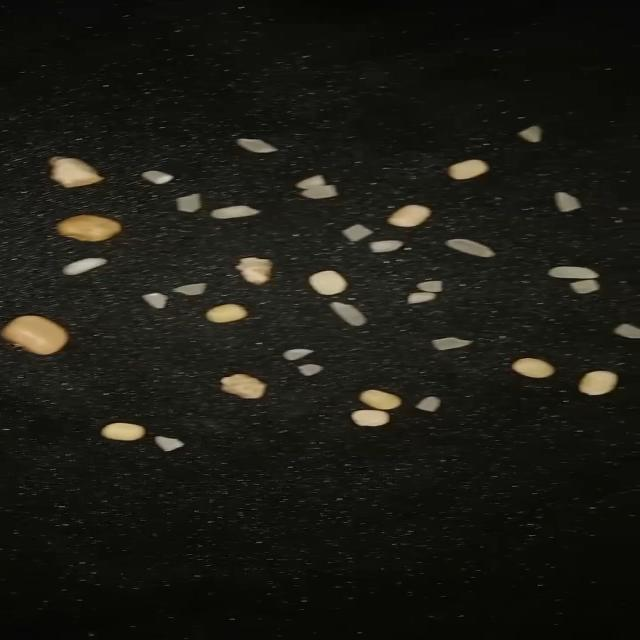Broken: (238, 138, 278, 152), (342, 224, 372, 242), (176, 193, 201, 213), (556, 192, 580, 212), (432, 338, 472, 350), (301, 186, 338, 198), (414, 396, 441, 412), (141, 171, 174, 184), (370, 240, 403, 253), (172, 284, 207, 296), (156, 436, 184, 451), (571, 279, 599, 294), (142, 292, 168, 308), (298, 176, 326, 190), (613, 324, 640, 338), (520, 126, 542, 142), (407, 292, 436, 304), (283, 349, 314, 360), (298, 364, 324, 376), (417, 281, 443, 292)
Full: (445, 239, 496, 257), (331, 302, 367, 326), (62, 258, 108, 275), (212, 205, 260, 219), (549, 266, 599, 278)
